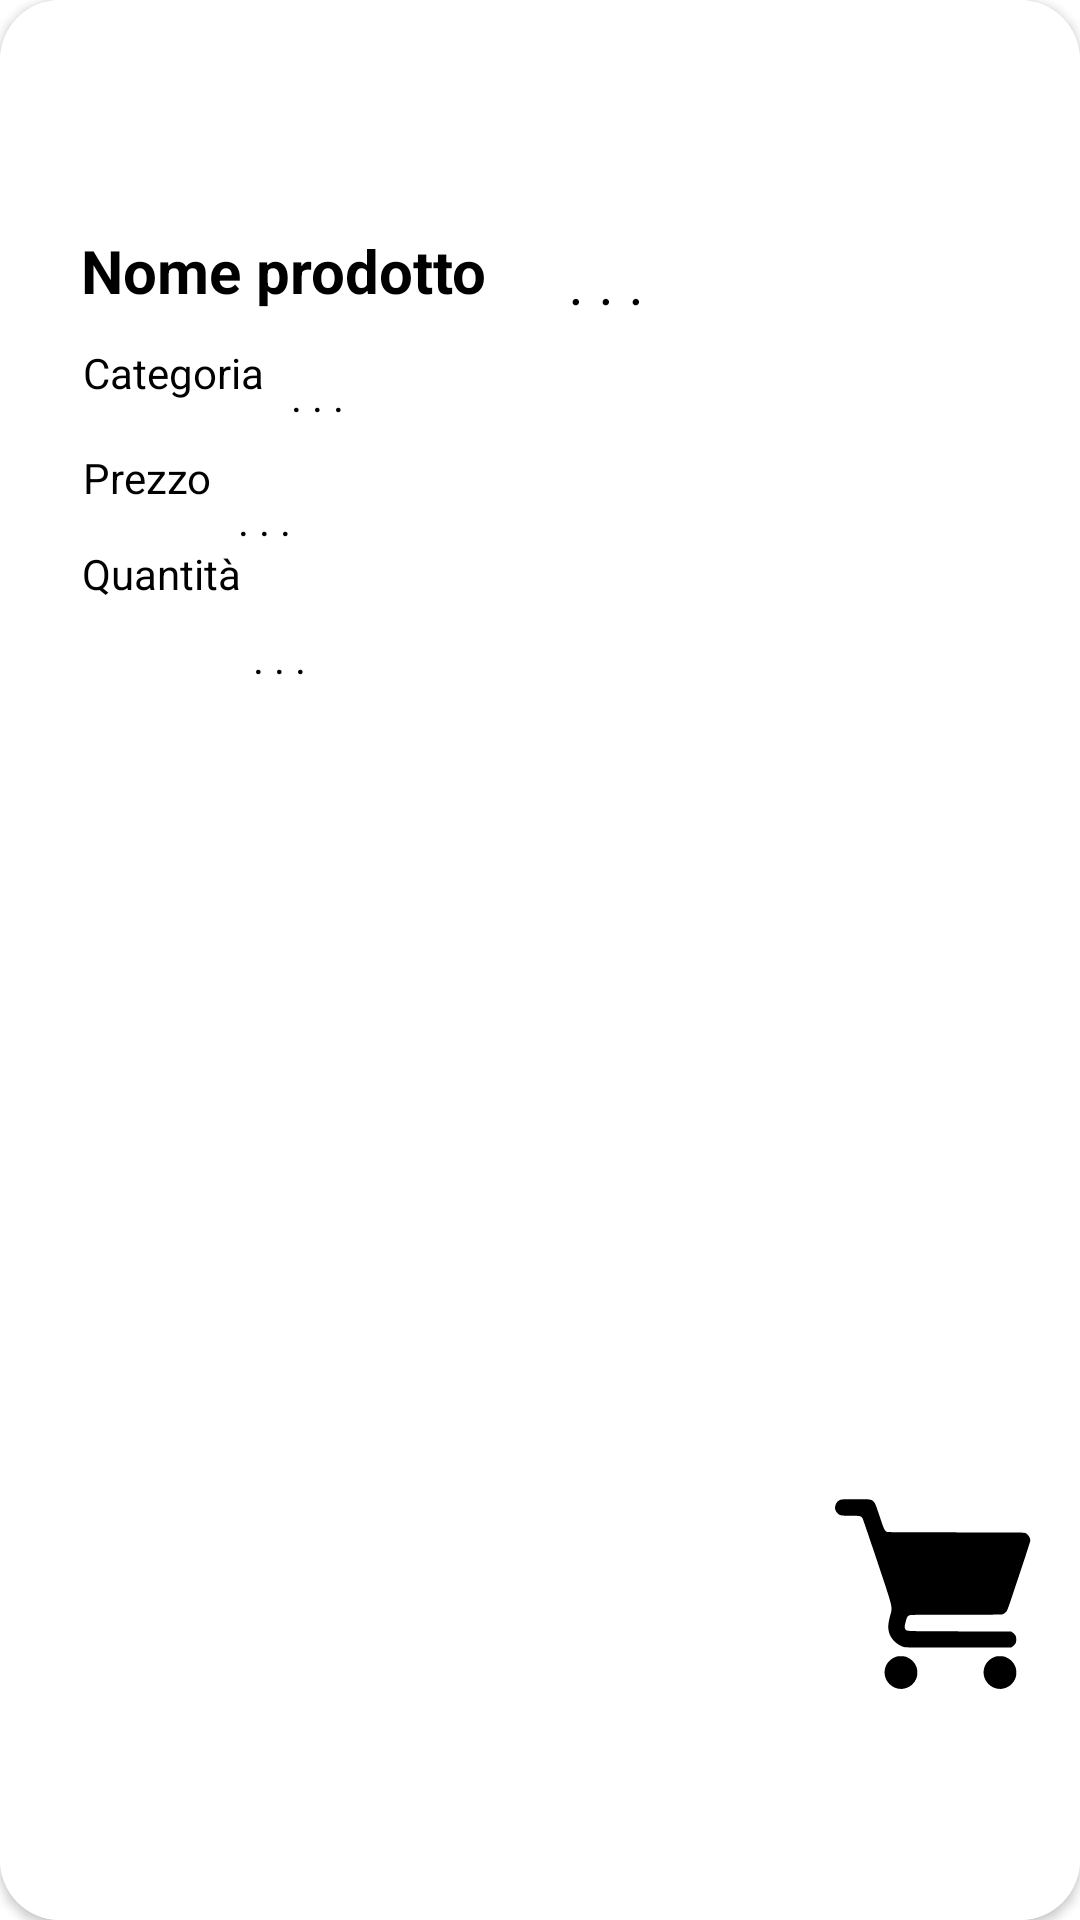

Where icons sit on this 1080*1920 app screen, as bbox=[x1, y1, x2, y2]:
Carrello: bbox=[835, 1499, 1031, 1689]
